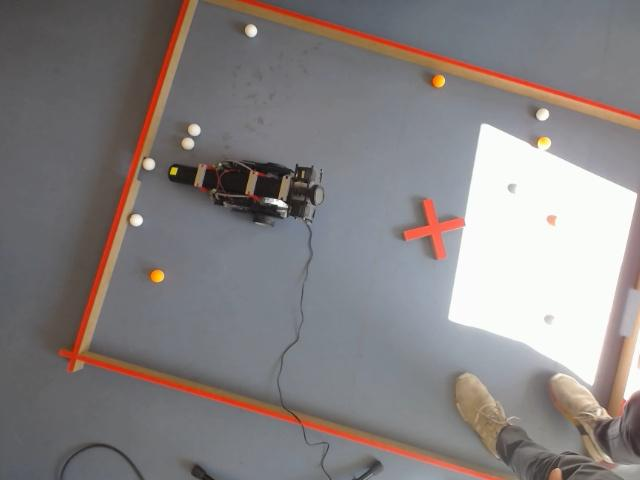orange: (148, 268, 168, 284), (431, 74, 446, 90)
robot: (168, 161, 324, 227)
robot-front: (169, 165, 194, 184)
white: (244, 22, 258, 40), (535, 107, 550, 122), (182, 137, 195, 150), (130, 214, 144, 226), (143, 158, 156, 170), (189, 124, 201, 136)
